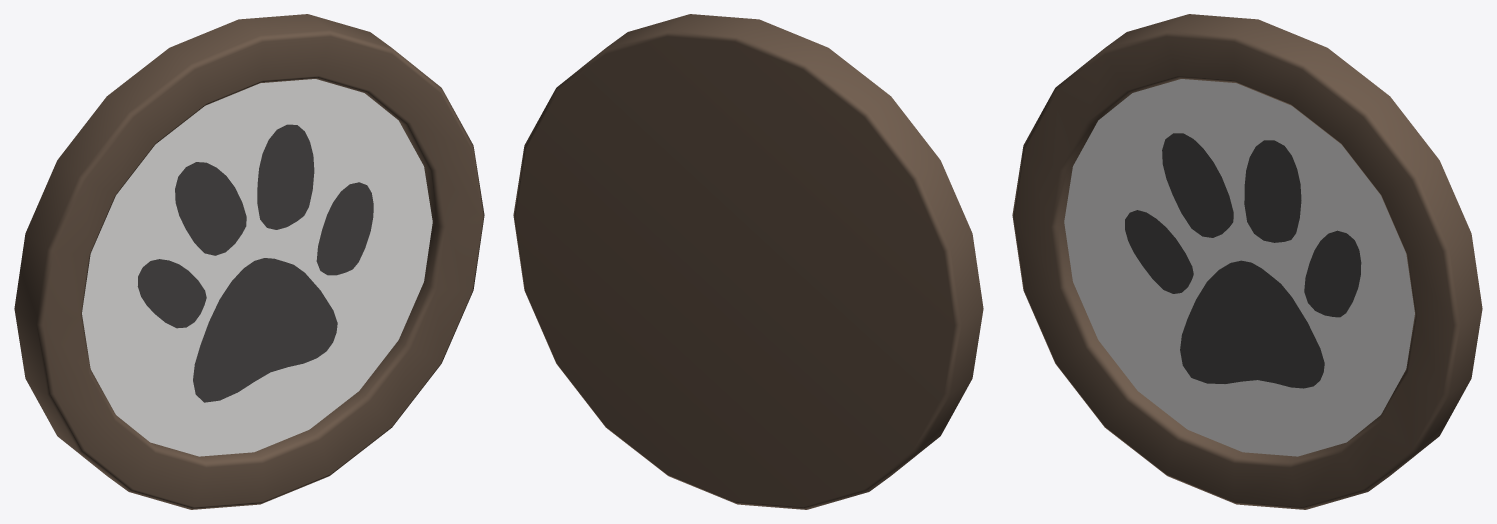
File: Painting_12.glb
3 renders of one model, left to right at view 1: azimuth 30°, elevation 25°; view 2: azimuth 150°, elevation 25°; view 3: azimuth 330°, elevation 25°, orthographic.
Parts seen in each view (by area): view 1: Painting_12; view 2: Painting_12; view 3: Painting_12.
Boxes of the visible parts, x1,y1,x2,y2 form: Painting_12: (14, 14, 484, 509); Painting_12: (513, 14, 983, 509); Painting_12: (1012, 14, 1482, 509).
Bounding box in the file's own units: 0.5813 × 0.5813 × 0.0607.
Materials: 1 (1 with a texture image).
